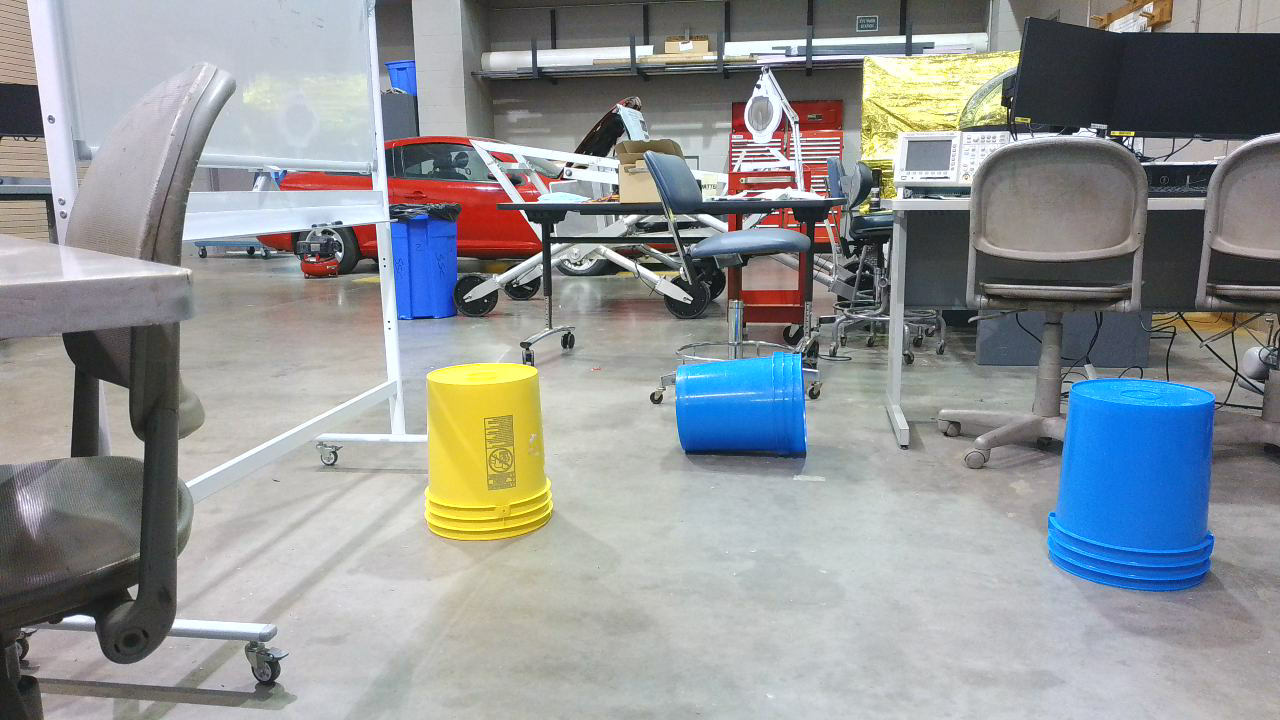blue_bucket: (1048, 383, 1224, 600), (678, 351, 813, 467)
yellow_bucket: (423, 364, 558, 547)
